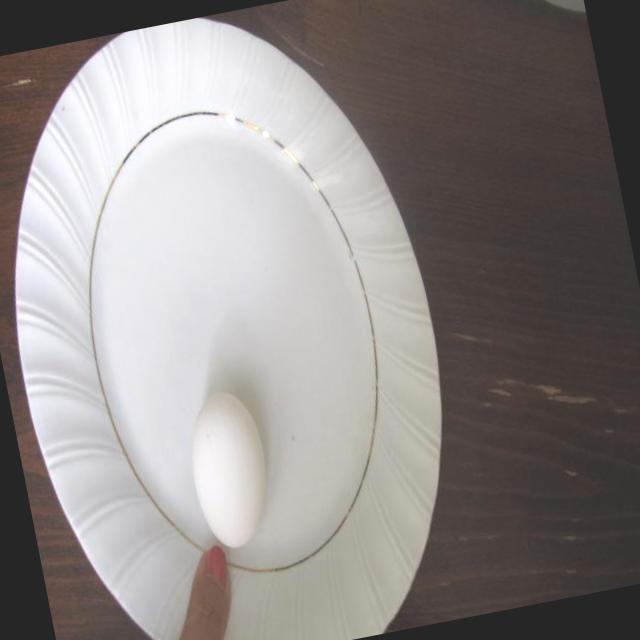Egg: (172, 376, 288, 558)
